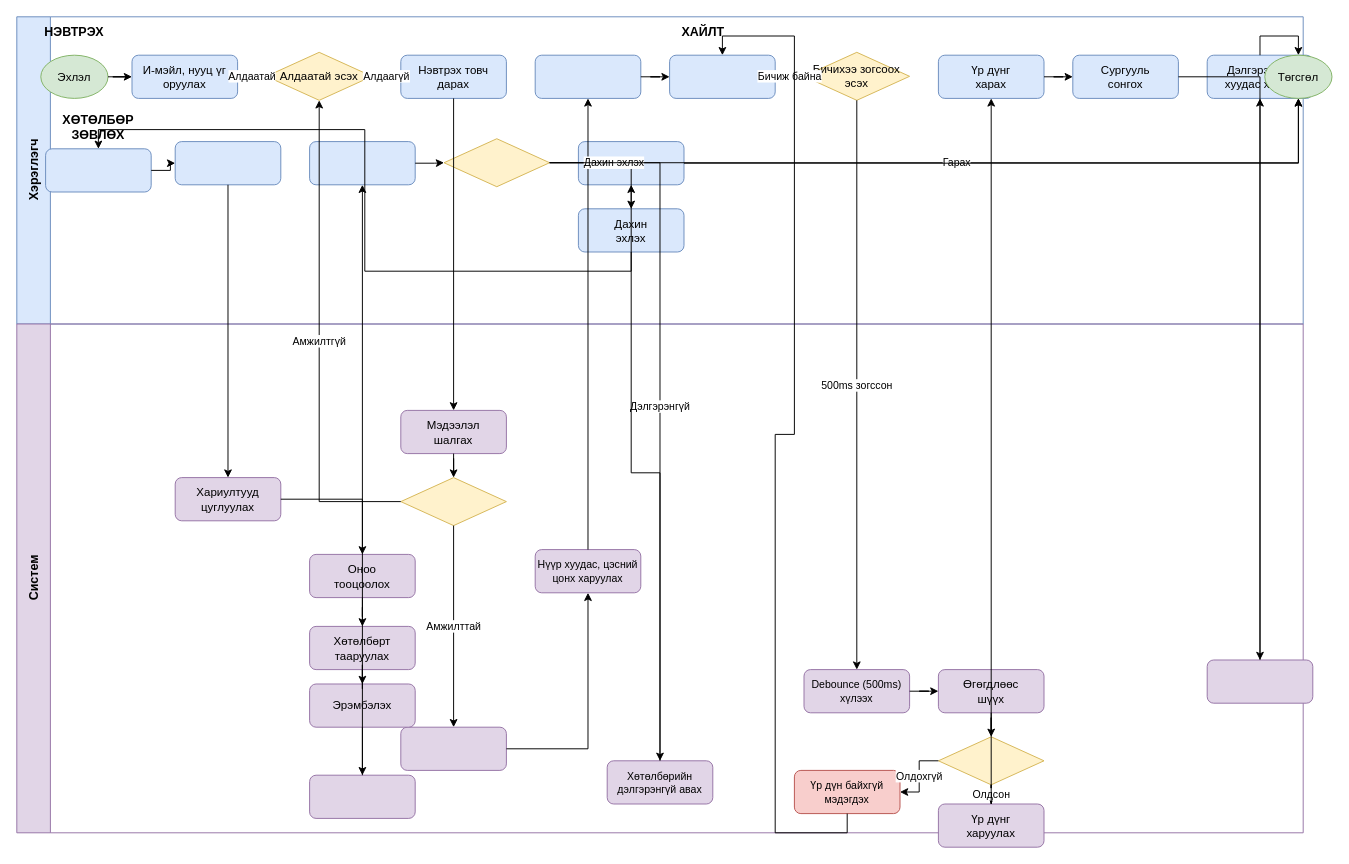
Image size: 1349x864. Some labels were removed from this diagram. Each missing label, with the centre of its shape:
"Асуултууд хариулах" belongs at (x=98, y=170).
"Батлах" belongs at (x=453, y=501).
"Дэлгэрэнгүй мэдээлэл авах" belongs at (x=1259, y=681).
"Дэлгэрэнгүй үзэх" belongs at (x=630, y=163).
"Зөвлөмжүүд харах" belongs at (x=362, y=163).
"Зөвлөмжүүд харуулах" belongs at (x=362, y=796).
"Нүүр хуудас харах" belongs at (x=587, y=76).
"Хайлтын үг оруулах" belongs at (x=722, y=76).
"Хариултууд илгээх" belongs at (x=227, y=163).
"Хэрэглэгчийн мэдээлэл localStorage-д хадгалах" belongs at (x=453, y=748).
"Хэрэглэгчийн үйлдэл" belongs at (x=496, y=162).
"Үр дүн олдсон эсэх" belongs at (x=990, y=760).
